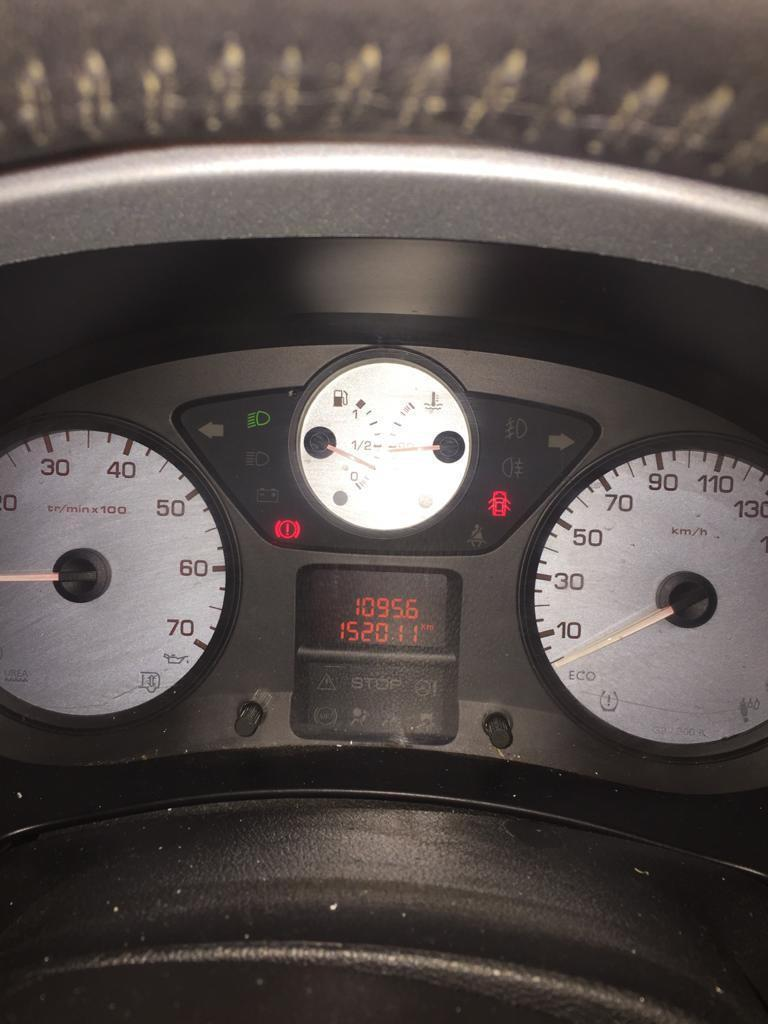0: (375, 622, 388, 642), (361, 596, 374, 616)
1: (398, 624, 404, 642), (339, 621, 345, 639), (412, 624, 417, 643), (355, 597, 360, 615)
2: (360, 621, 374, 641)
5: (346, 620, 359, 641), (390, 598, 403, 618)
6: (405, 598, 418, 619)
9: (376, 597, 389, 617)
X: (426, 624, 433, 630), (420, 623, 425, 630)
odometer: (304, 566, 450, 650)
